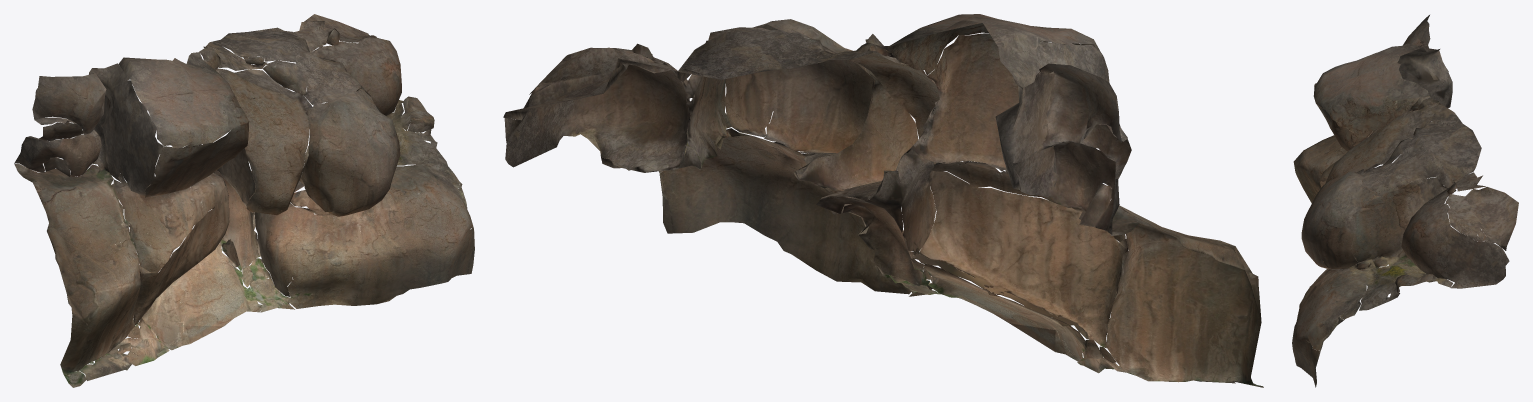
File: namaqualand_cliff_01.glb
3 renders of one model, left to right at view 1: azimuth 30°, elevation 25°; view 2: azimuth 150°, elevation 25°; view 3: azimuth 270°, elevation 25°, orthographic. The views are drawn at different scales.
Parts seen in each view (by area): view 1: namaqualand_cliff_01; view 2: namaqualand_cliff_01; view 3: namaqualand_cliff_01.
Boxes of the visible parts, x1,y1,x2,y2 form: namaqualand_cliff_01: [14, 14, 474, 387]; namaqualand_cliff_01: [503, 14, 1263, 387]; namaqualand_cliff_01: [1292, 15, 1518, 387].
Bounding box in the file's own units: 8.27 × 4.95 × 4.38.
1 material, 1 textured.
